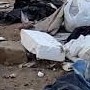garbage: (18, 2, 90, 87)
